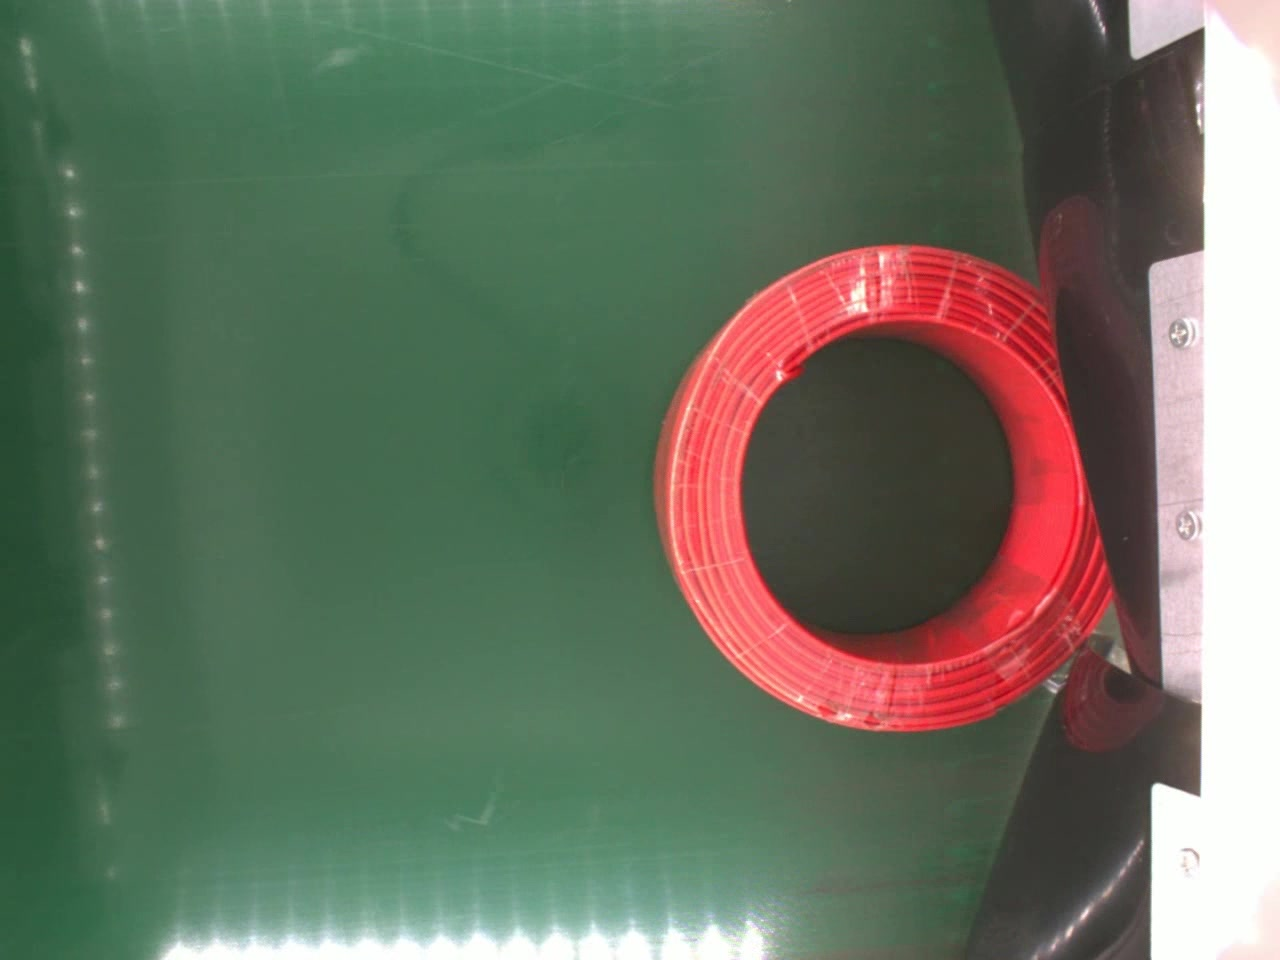red: (650, 243, 1114, 732)
